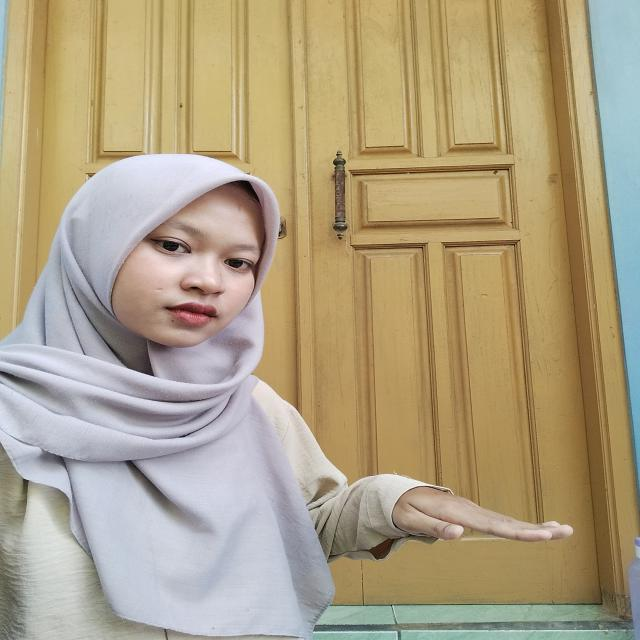adik: (336, 466, 601, 565)
